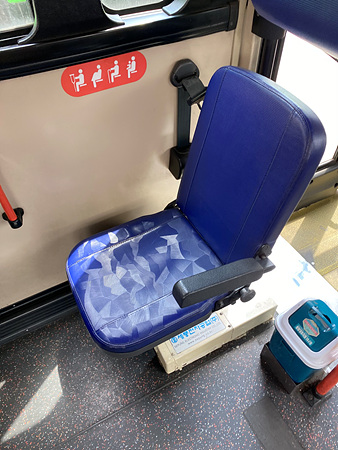seat: (63, 64, 329, 352)
